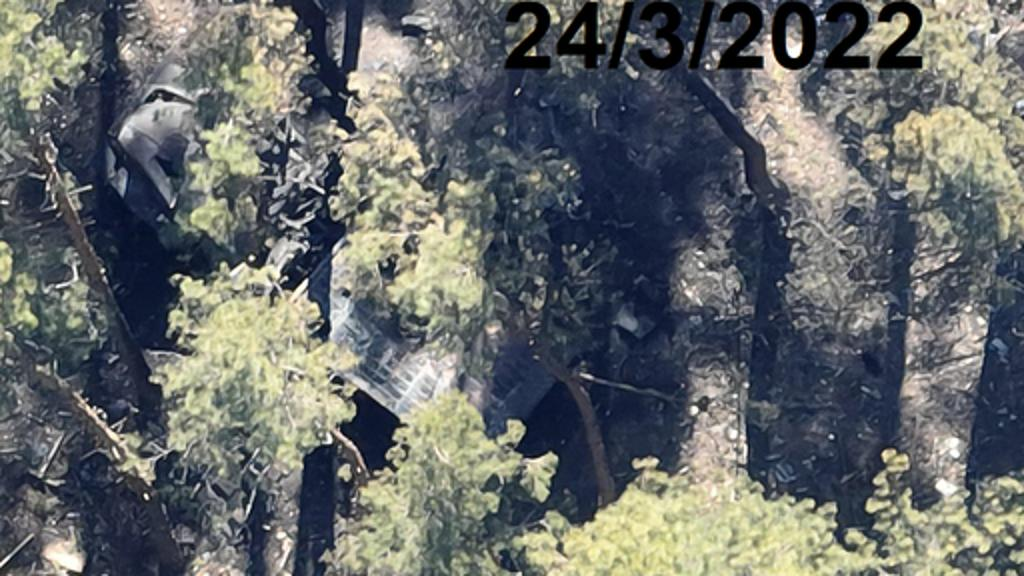TRUCK: (92, 74, 602, 470)
